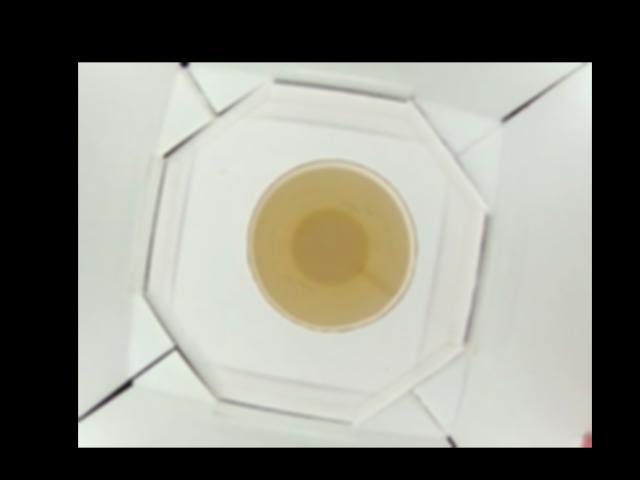Cup: (244, 157, 416, 333)
